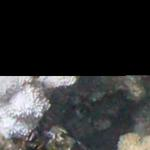alive: (4, 79, 148, 148)
